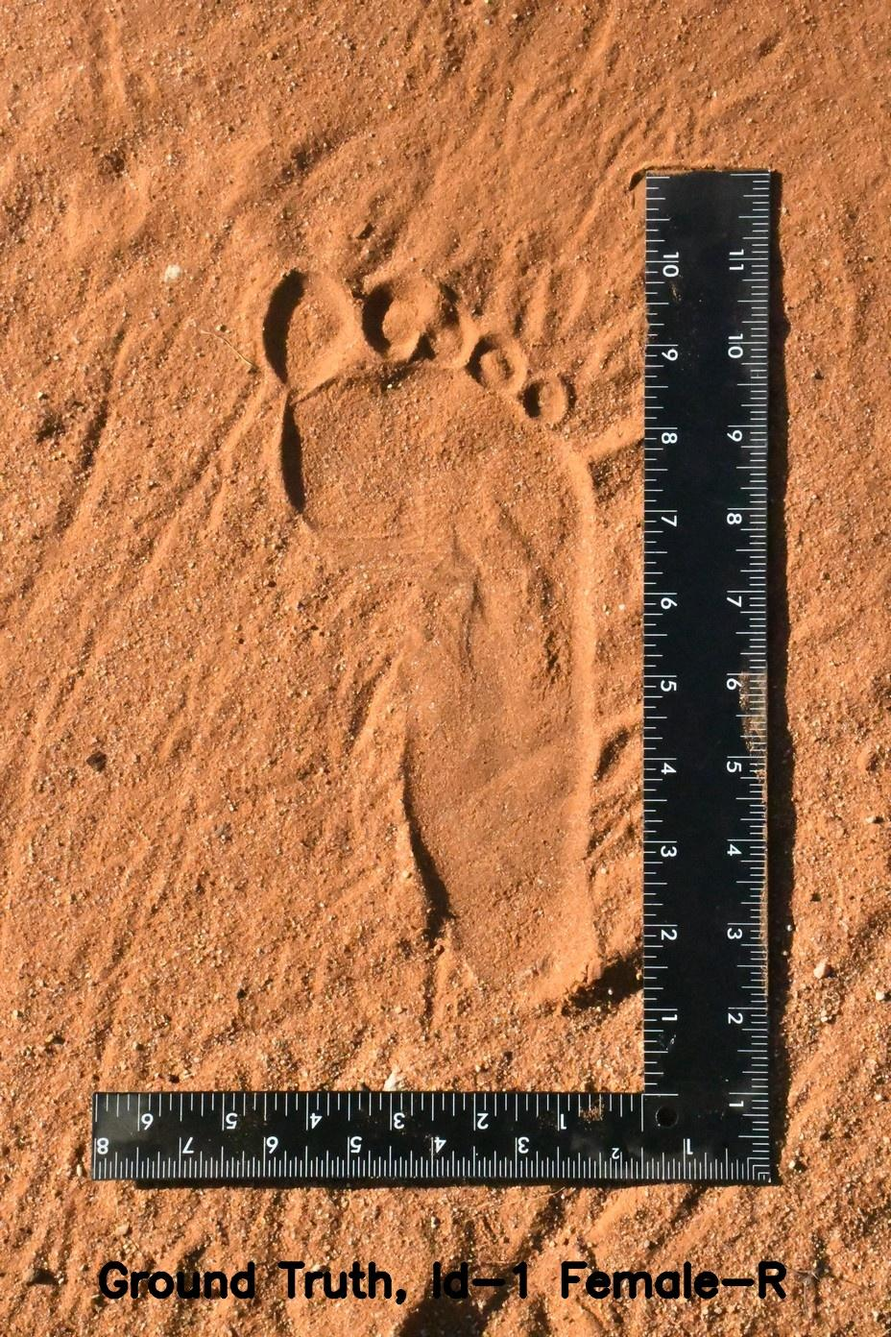human_footprint: (205, 215, 640, 1033)
